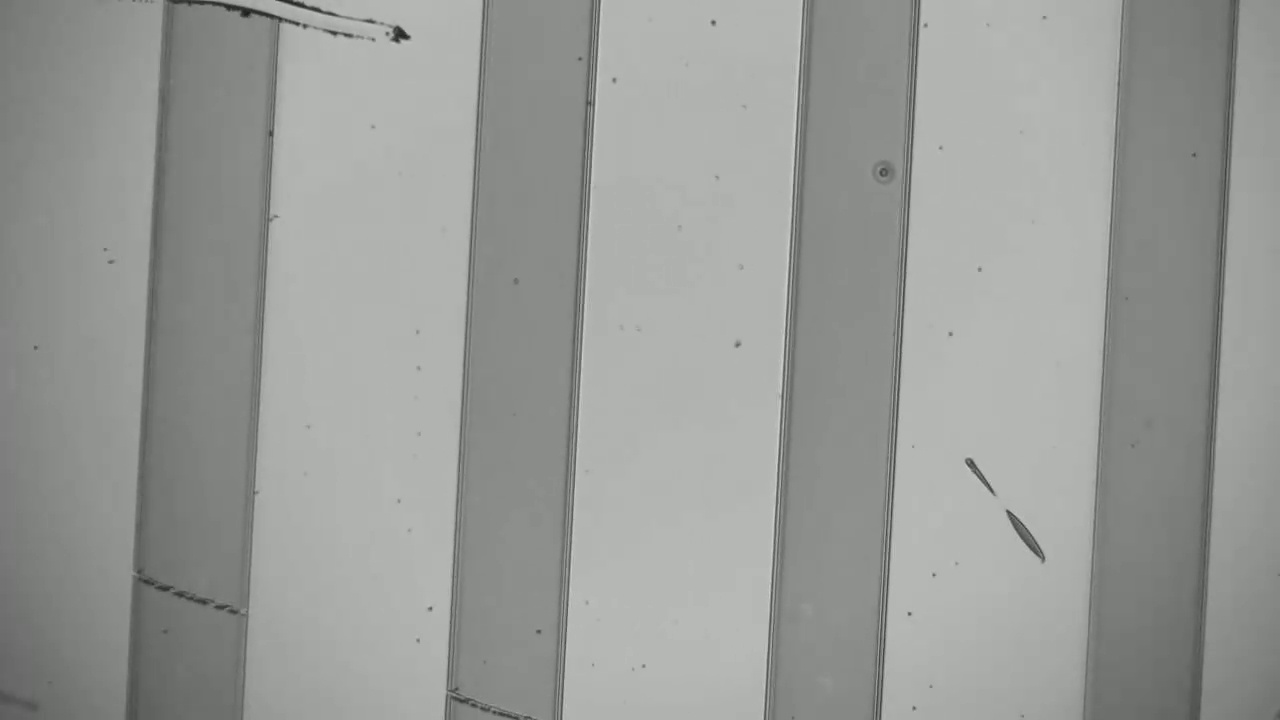Short_circuit: (121, 0, 334, 54)
scratch: (139, 579, 234, 623), (460, 700, 534, 719)
